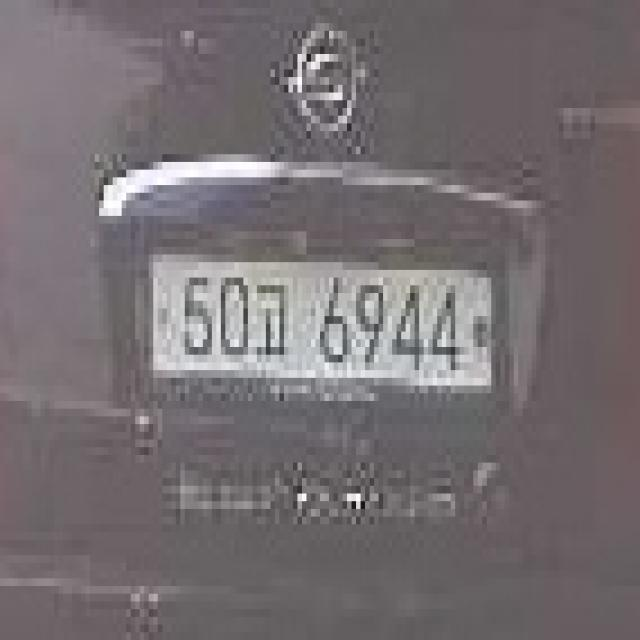0: (218, 268, 253, 374)
4: (384, 284, 424, 378), (428, 282, 468, 376)
5: (182, 266, 216, 374)
6: (314, 270, 352, 384)
9: (357, 274, 384, 379)
go: (254, 269, 292, 378)
license_plate: (128, 206, 510, 437)
